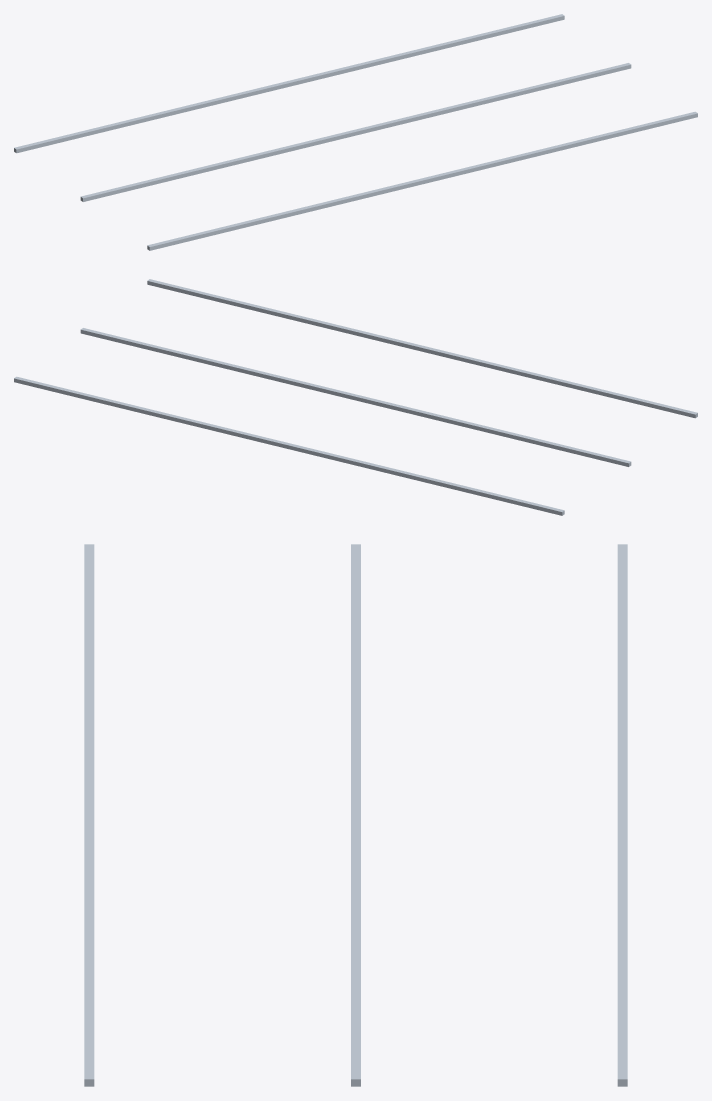
File: ceiling.glb
3 renders of one model, top to bottom at view 1: azimuth 30°, elevation 25°; view 2: azimuth 150°, elevation 25°; view 3: azimuth 270°, elevation 25°, orthographic. The views are drawn at different scales.
Parts seen in each view (by area): view 1: Ceiling_Beam_02, Ceiling_Beam_01, Ceiling_Beam_03; view 2: Ceiling_Beam_02, Ceiling_Beam_01, Ceiling_Beam_03; view 3: Ceiling_Beam_01, Ceiling_Beam_03, Ceiling_Beam_02.
Boxes of the visible parts, x1,y1,x2,y2 form: Ceiling_Beam_02: [80, 63, 631, 201]; Ceiling_Beam_01: [14, 14, 564, 153]; Ceiling_Beam_03: [147, 111, 697, 250]; Ceiling_Beam_02: [80, 328, 631, 466]; Ceiling_Beam_01: [14, 376, 564, 515]; Ceiling_Beam_03: [147, 279, 697, 418]; Ceiling_Beam_01: [617, 544, 627, 1086]; Ceiling_Beam_03: [84, 544, 94, 1086]; Ceiling_Beam_02: [351, 544, 360, 1086].
Size of the model in its own units: 38 by 0.25 by 16.3.
